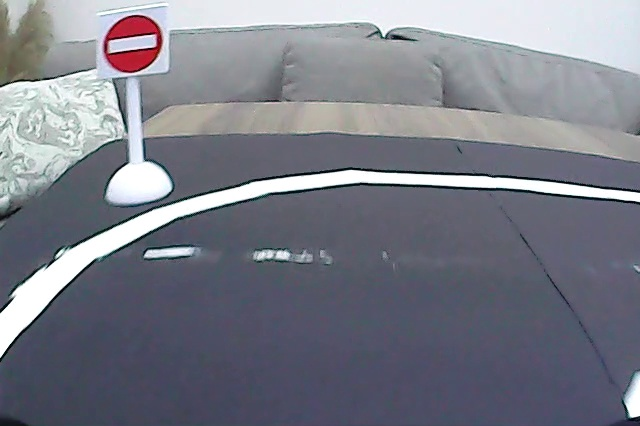do not enter: (100, 11, 166, 76)
